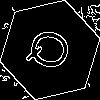Q: (25, 25, 81, 76)
